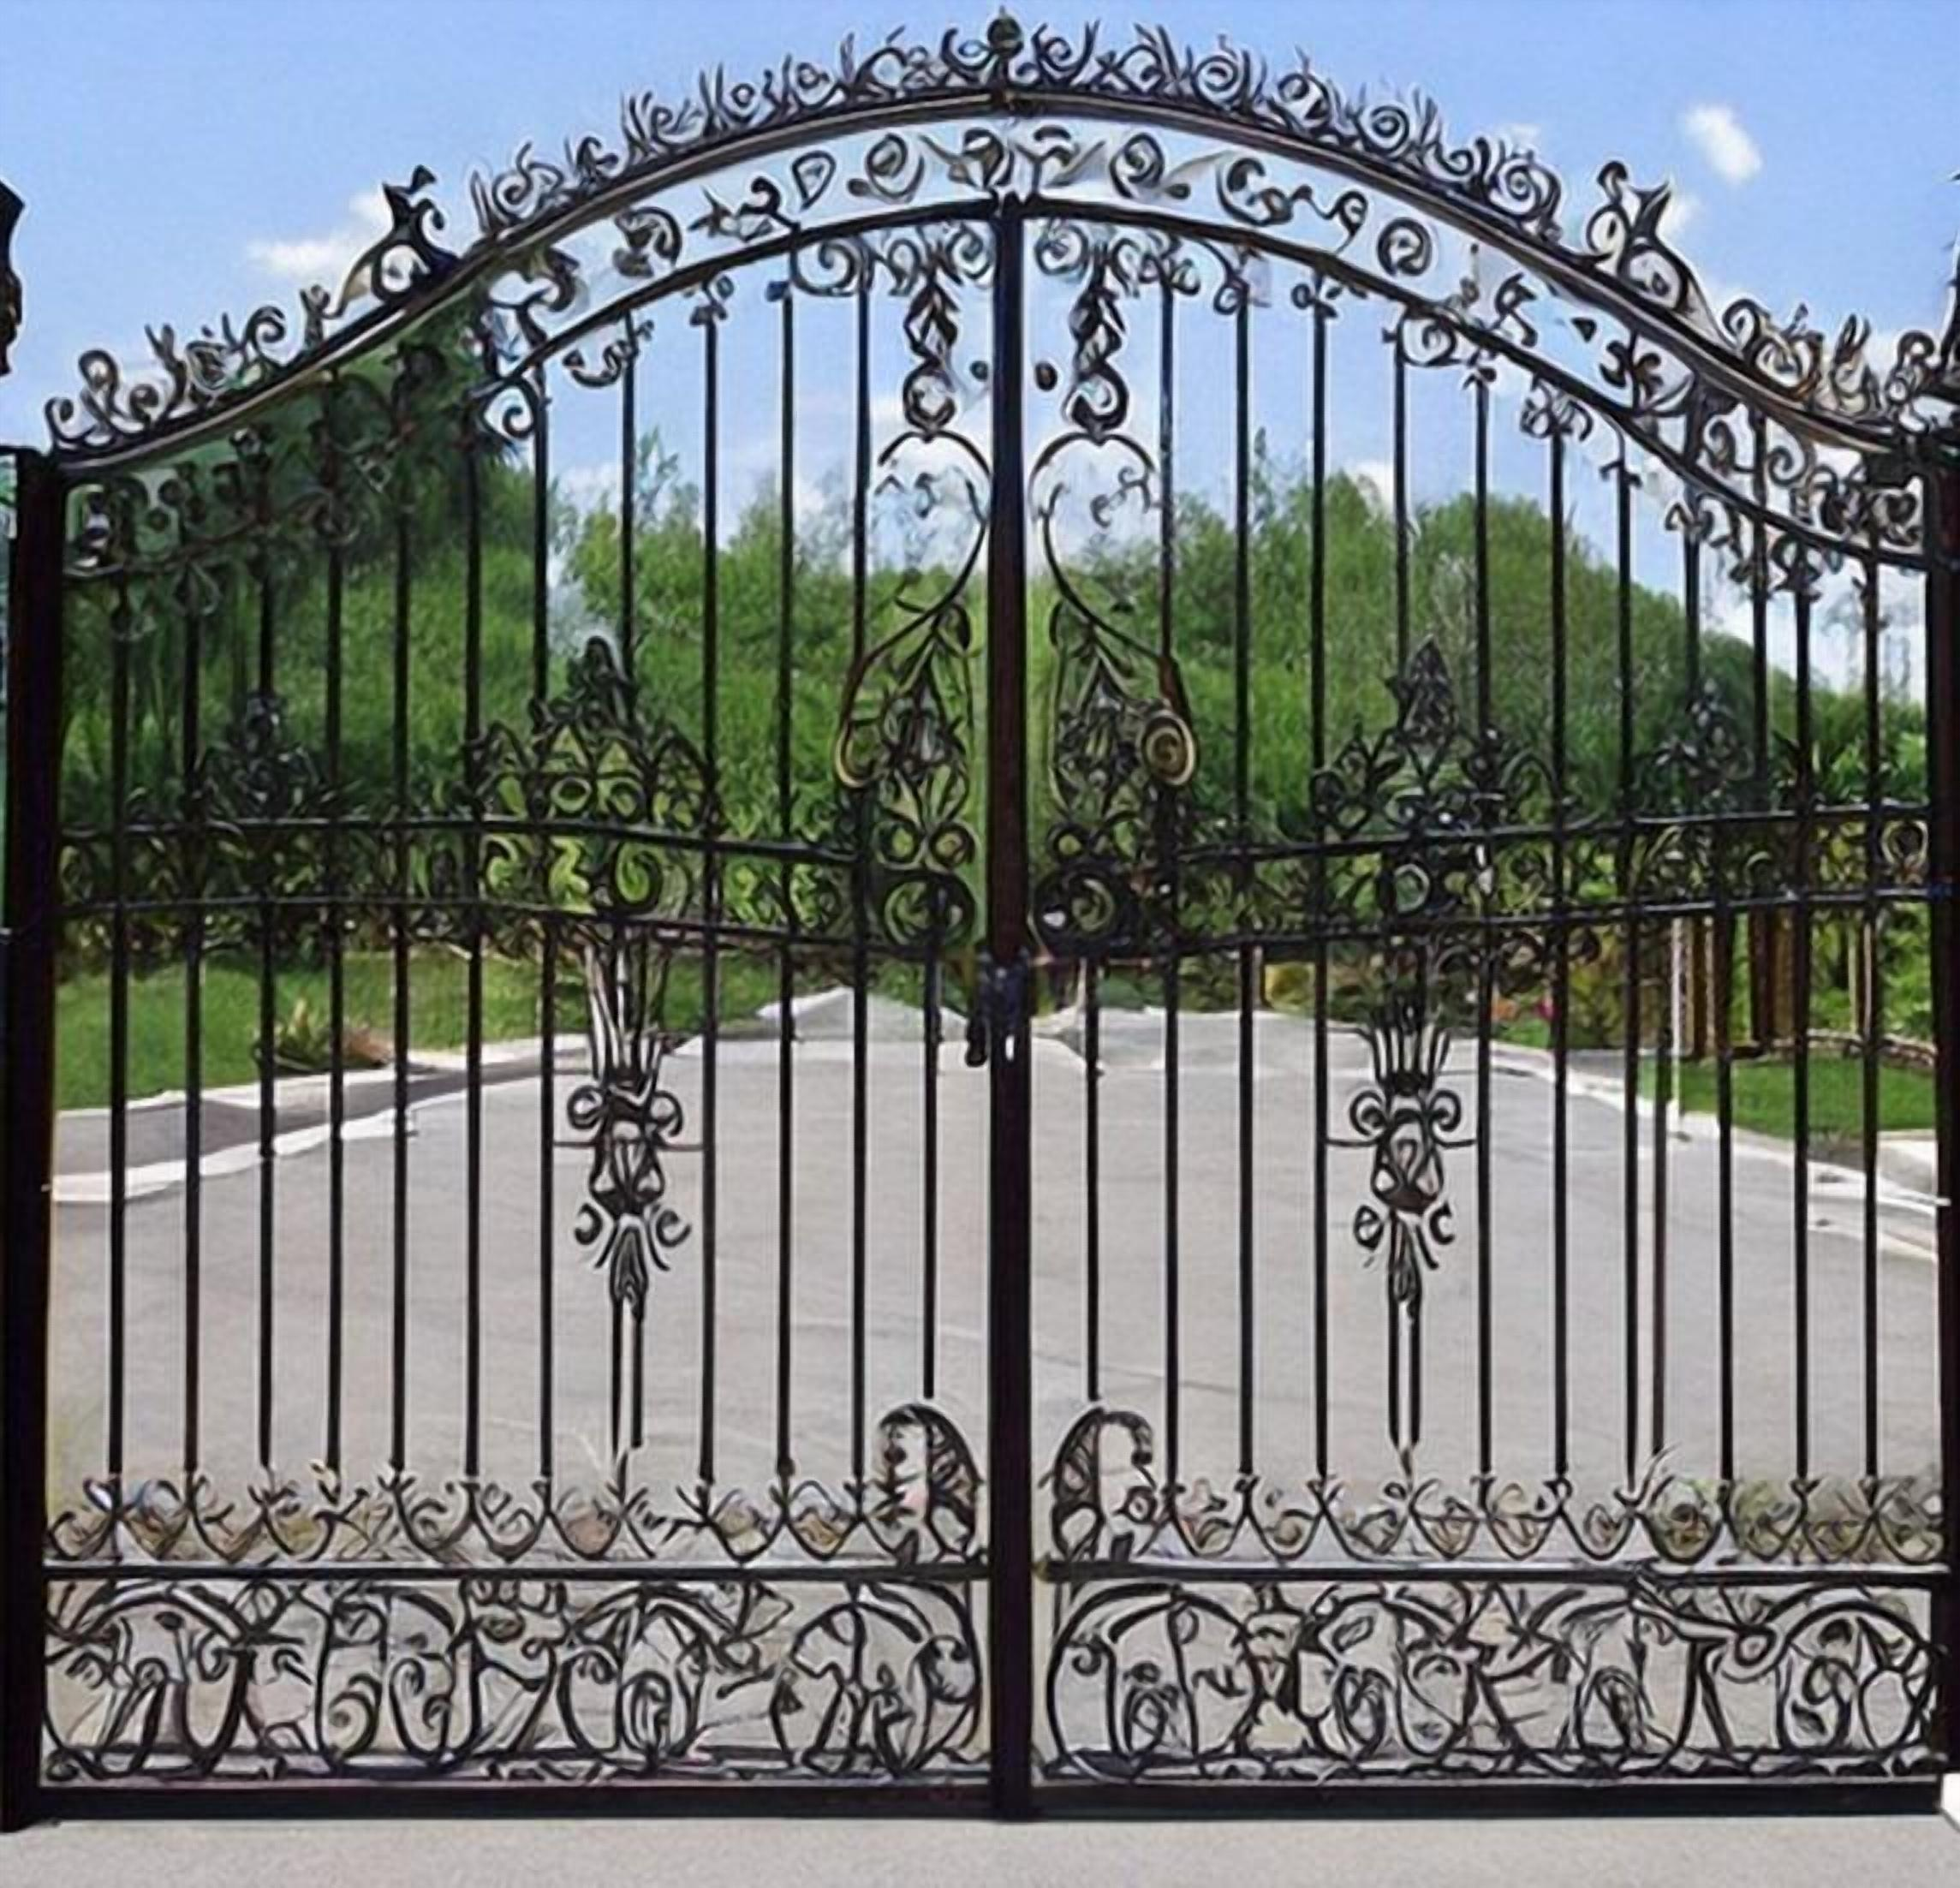Gate: (0, 0, 1960, 1832)
